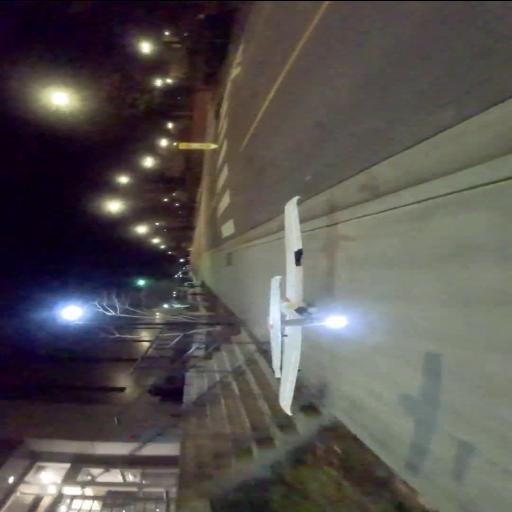uav: (245, 188, 357, 428)
